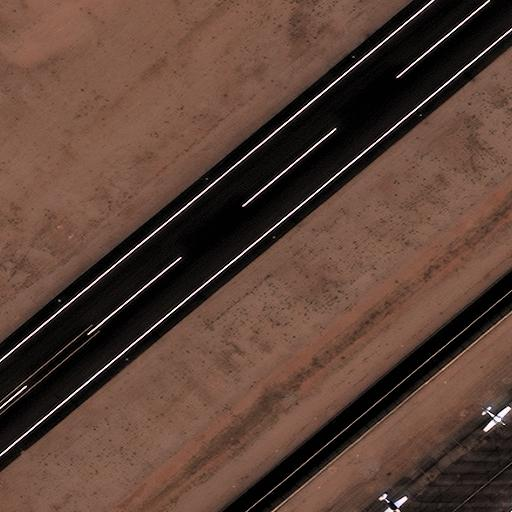Small Civil Transport: (482, 407, 511, 432), (381, 494, 409, 511)
